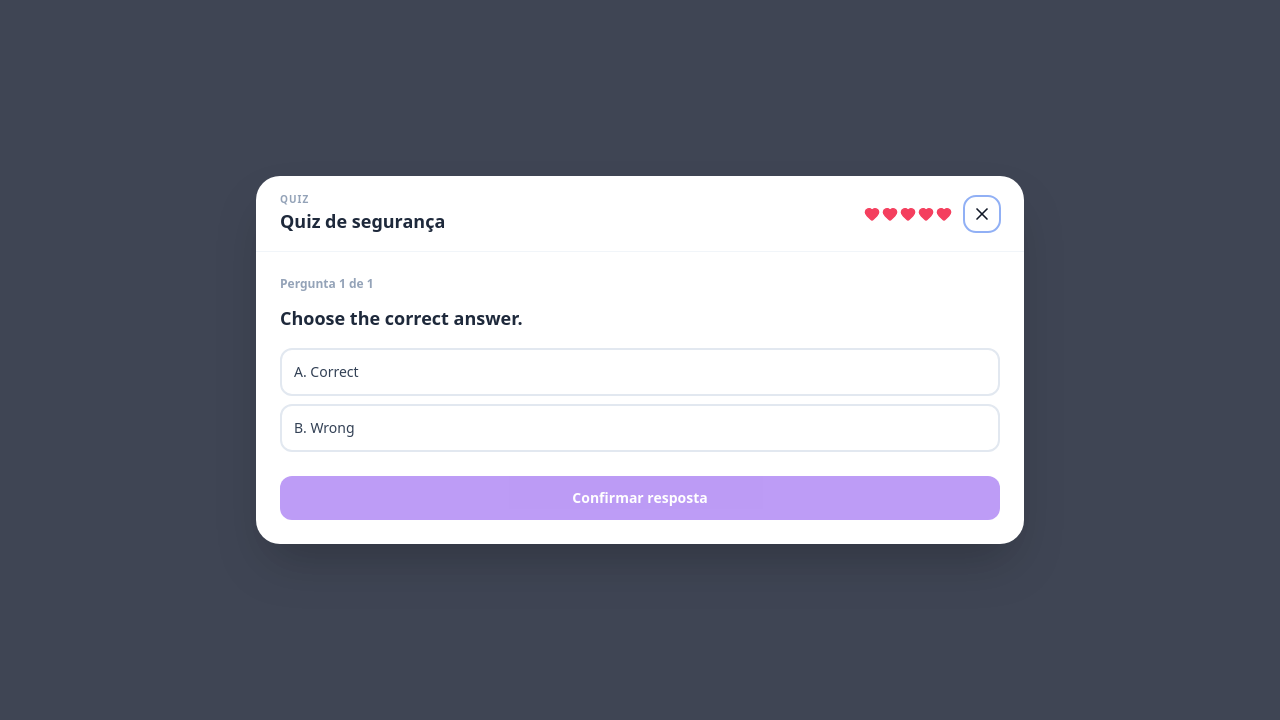
<ActivityPlayer /> — falhas e reprovação verificadas › bloqueia Escape, fundo e botão fechar enquanto a tentativa está sendo salva
Click the button "B. Wrong" at {"x": 332, "y": 428}, box [280, 404, 1000, 452]
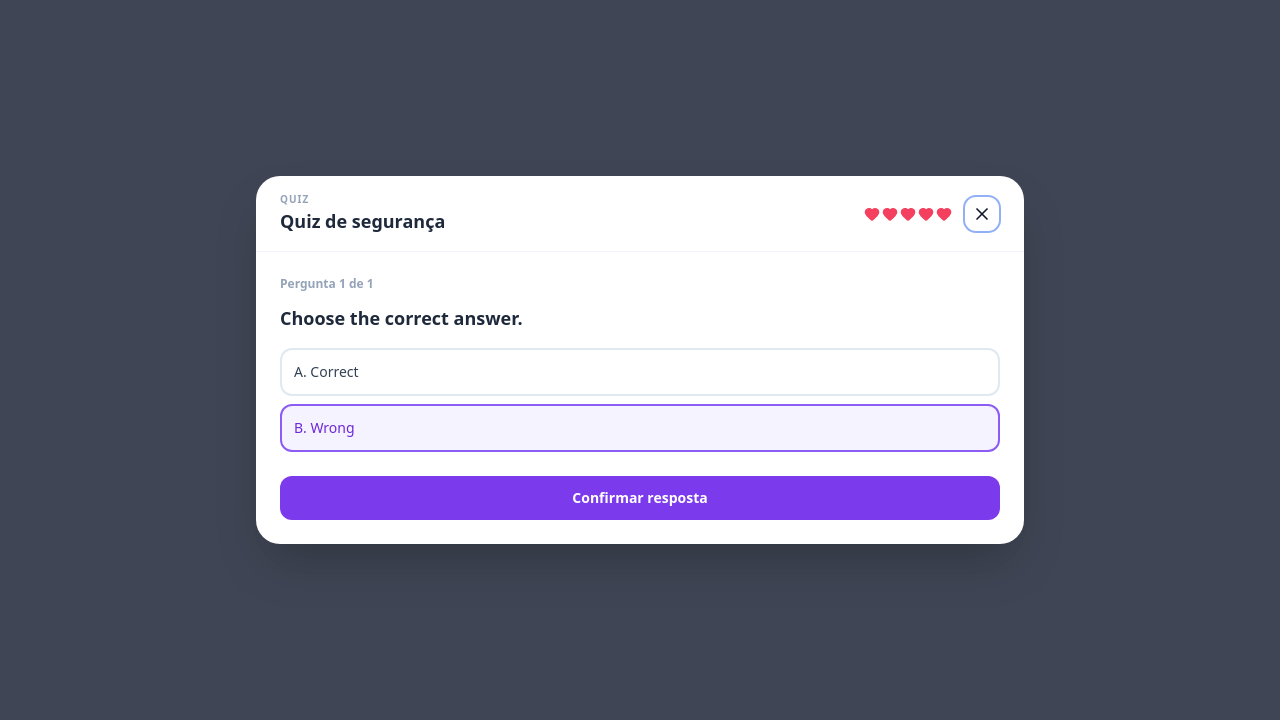
Click the button "Confirmar resposta" at {"x": 640, "y": 498}, box [280, 476, 1000, 520]
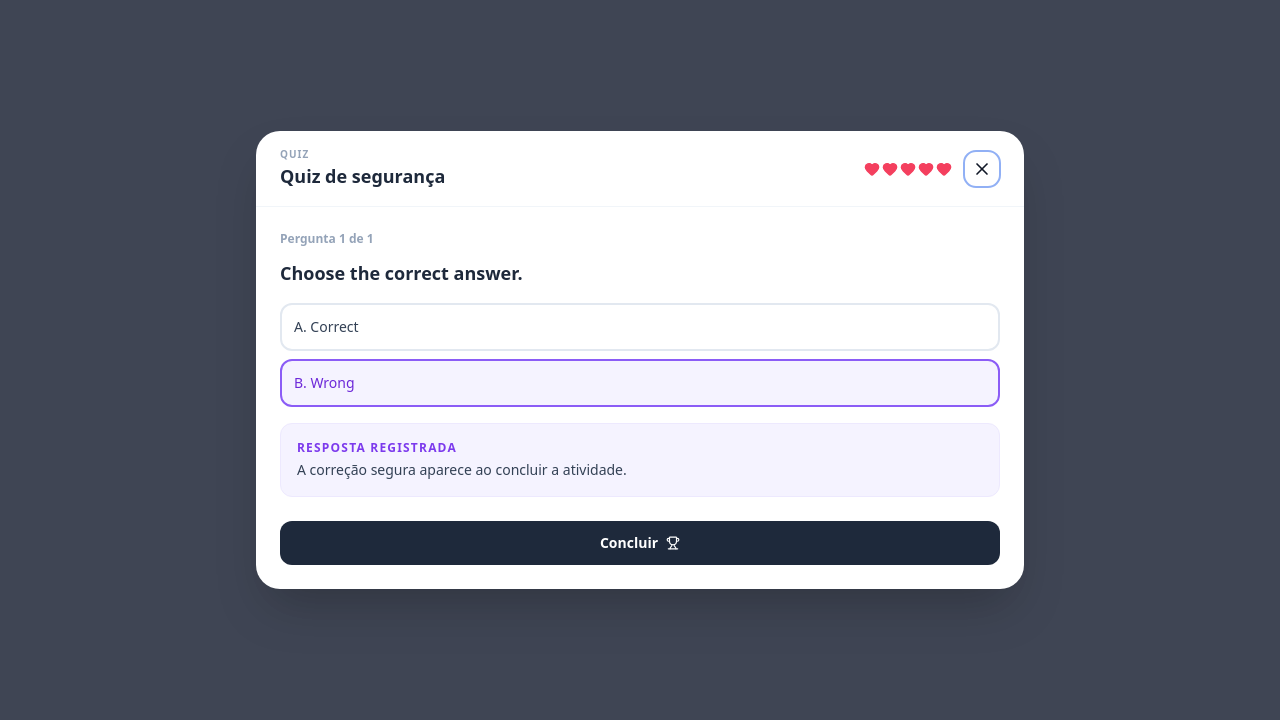
Click the button "Concluir" at {"x": 640, "y": 543}, box [280, 521, 1000, 565]
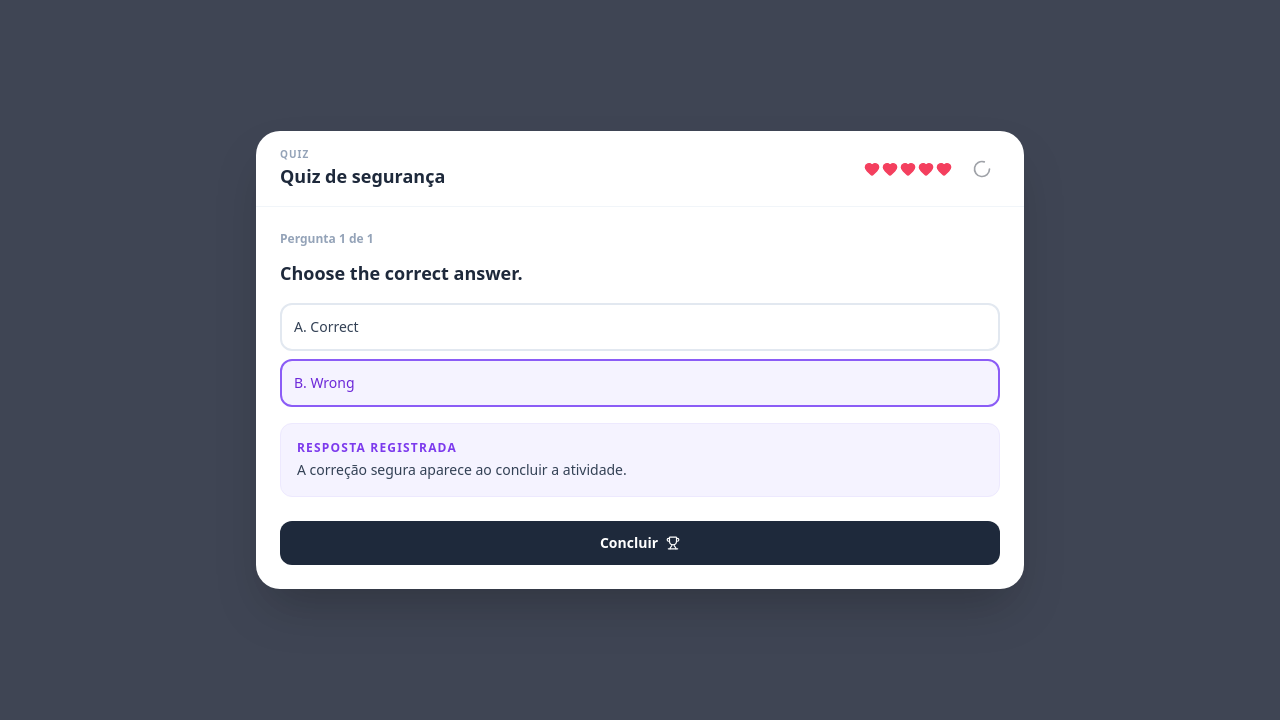
Check: the button named "salvando atividade" is disabled, box [964, 150, 1000, 186]
Press Escape
Press the mouse on the element that starts with "quiz" at {"x": 640, "y": 360}, box [0, 0, 1279, 719]
Click the button named "salvando atividade" at {"x": 982, "y": 168}, box [964, 150, 1000, 186]
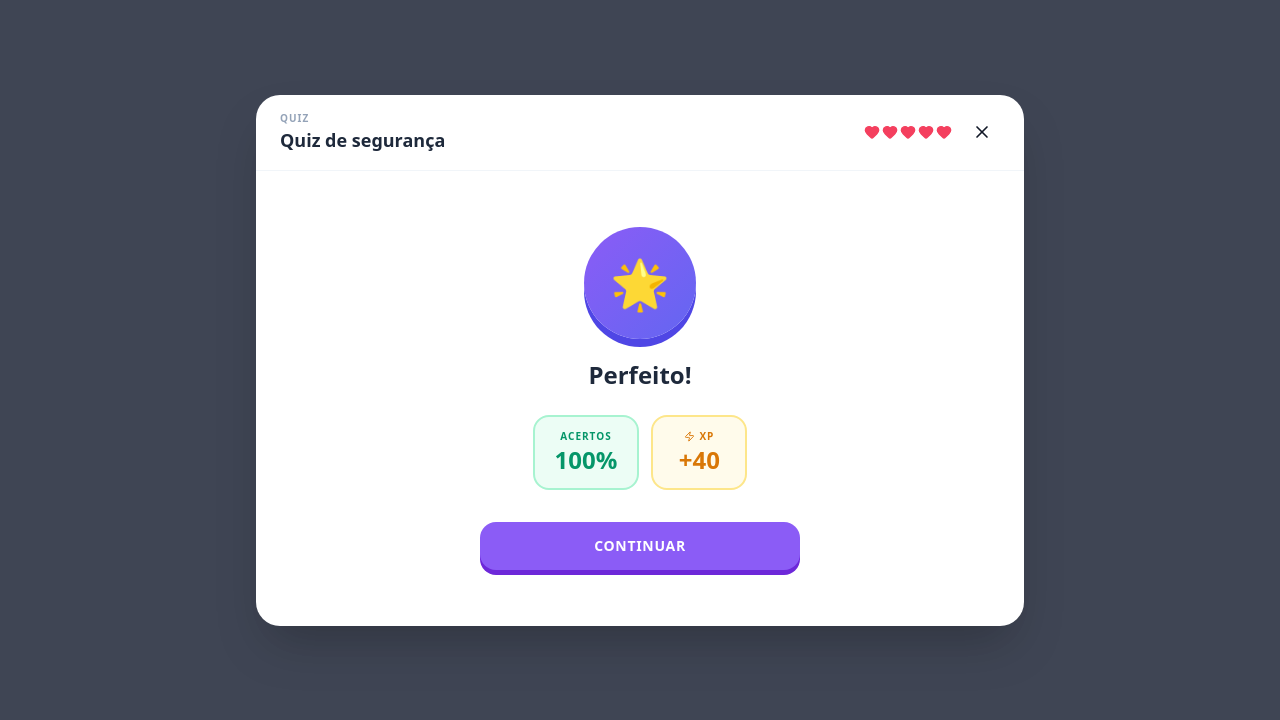
Check: the text "100%" is shown, box [555, 444, 617, 476]
